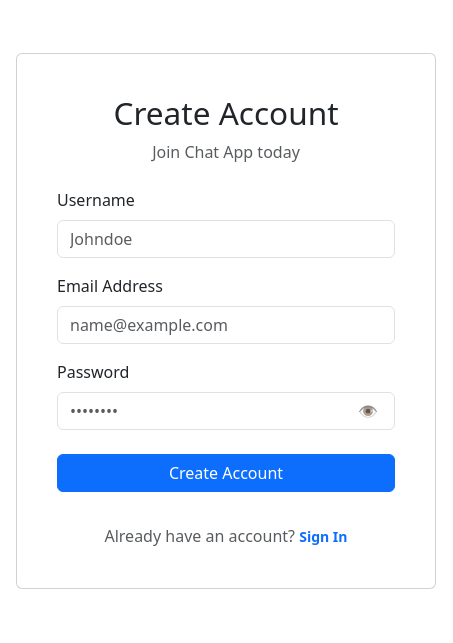
Register Component › displays fallback error message if API error response is missing
Step 1. Type "john_doe" into the field labelled "Username" → (226, 239), box [57, 220, 395, 258]
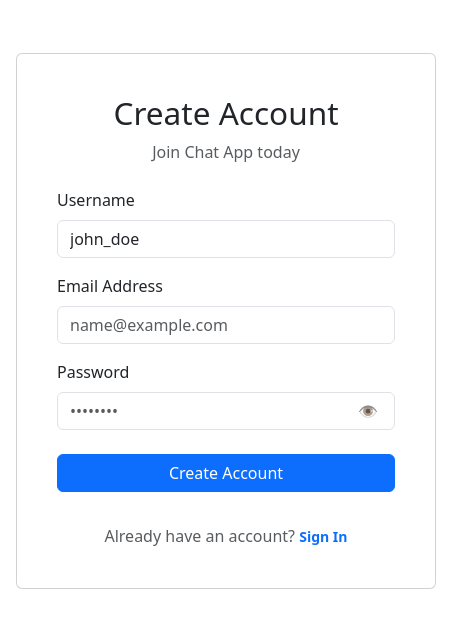
Step 2. Type "john@example.com" into the field labelled "Email Address" → (226, 325), box [57, 306, 395, 344]
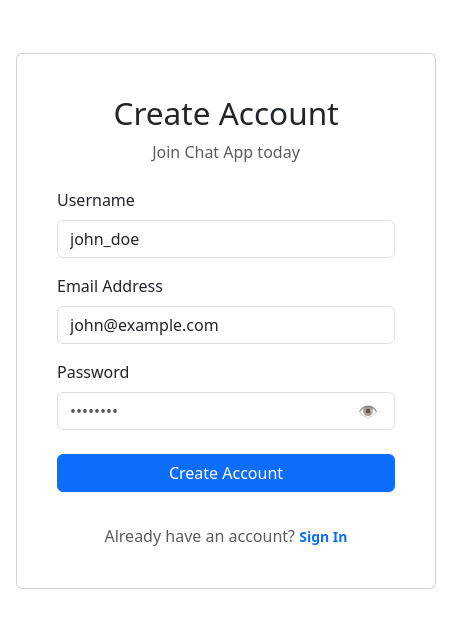
Step 3. Type "password123" into the password field labelled "Password" → (226, 411), box [57, 392, 395, 430]
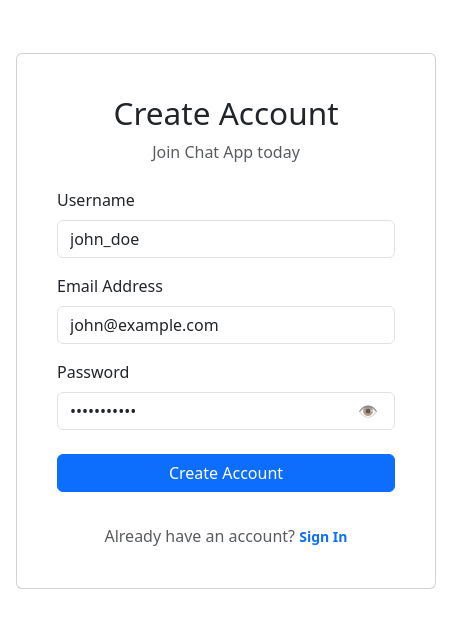
Step 4. Click the button "Create Account" → (226, 473), box [57, 454, 395, 492]
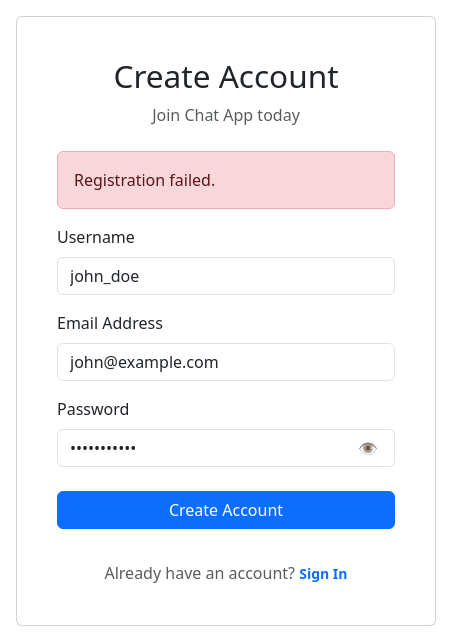
Expected: the text "Registration failed." is shown, [57, 151, 395, 209]
